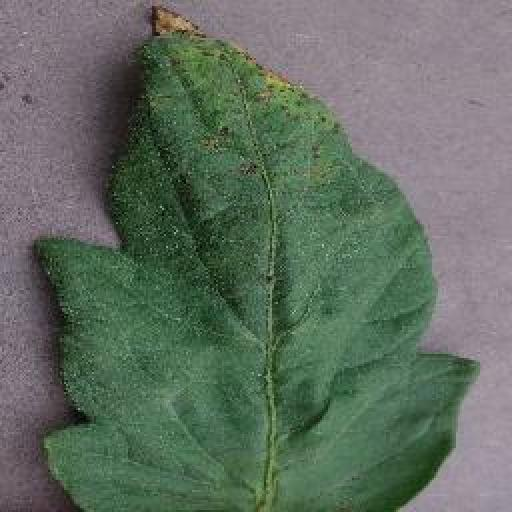Bacterial Spot: (32, 1, 483, 512)
